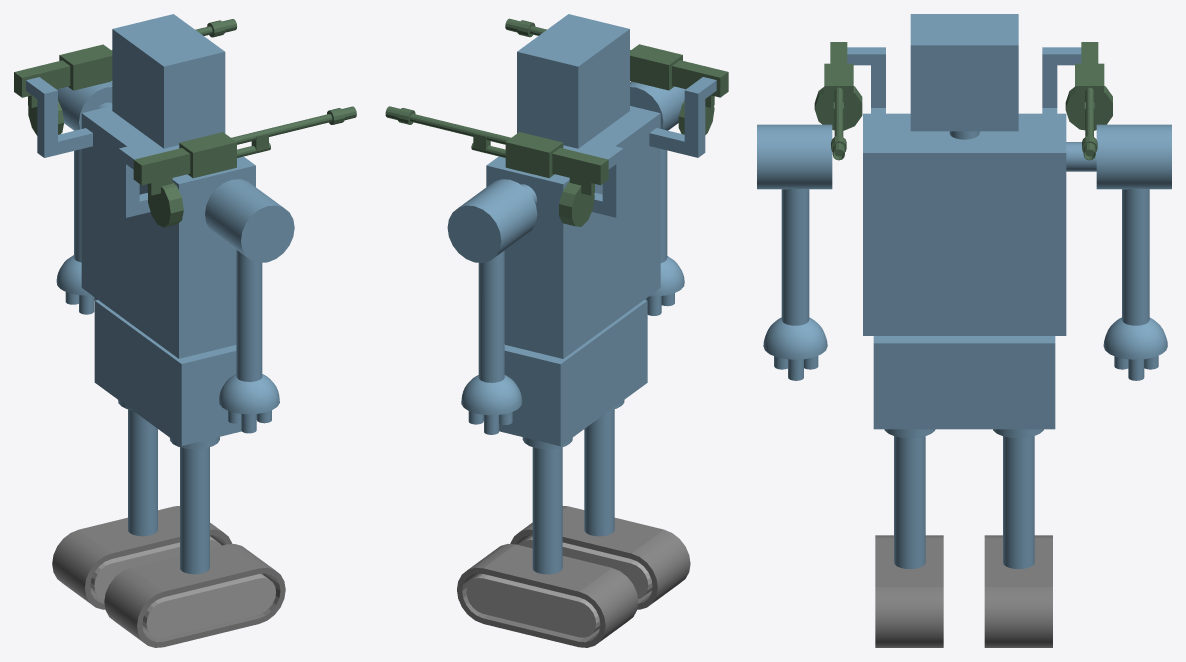
File: Robot (Machine gun).fbx
3 renders of one model, left to right at view 1: azimuth 30°, elevation 25°; view 2: azimuth 150°, elevation 25°; view 3: azimuth 270°, elevation 25°, orthographic. The views are drawn at different scales.
Parts seen in each view (by area): view 1: Body_and_Legs, Wheels, Machine_guns, Head___Head_Joint, Right_Shoulder_Cylinder, Right_arm, Right_Hand, Left_Shoulder_Cylinder, Left_Hand, Left_Arm; view 2: Body_and_Legs, Wheels, Machine_guns, Head___Head_Joint, Left_Shoulder_Cylinder, Left_Arm, Left_Hand, Right_Shoulder_Cylinder, Right_Hand, Right_arm; view 3: Body_and_Legs, Wheels, Head___Head_Joint, Machine_guns, Left_Shoulder_Cylinder, Right_Shoulder_Cylinder, Right_arm, Left_Arm, Left_Hand, Right_Hand, Left_Arm_Joint.
Boxes of the visible parts, bbox=[...] form: Body_and_Legs: bbox=[81, 106, 255, 574]; Wheels: bbox=[52, 506, 285, 647]; Machine_guns: bbox=[14, 19, 356, 227]; Head___Head_Joint: bbox=[112, 14, 225, 148]; Right_Shoulder_Cylinder: bbox=[205, 179, 294, 262]; Right_arm: bbox=[236, 249, 262, 381]; Right_Hand: bbox=[219, 374, 279, 433]; Left_Shoulder_Cylinder: bbox=[57, 81, 112, 130]; Left_Hand: bbox=[56, 255, 97, 314]; Left_Arm: bbox=[74, 149, 81, 262]; Body_and_Legs: bbox=[486, 106, 660, 574]; Wheels: bbox=[457, 506, 690, 647]; Machine_guns: bbox=[385, 18, 728, 226]; Head___Head_Joint: bbox=[517, 14, 629, 148]; Left_Shoulder_Cylinder: bbox=[447, 179, 537, 262]; Left_Arm: bbox=[478, 250, 504, 382]; Left_Hand: bbox=[461, 375, 522, 434]; Right_Shoulder_Cylinder: bbox=[630, 81, 685, 130]; Right_Hand: bbox=[644, 256, 684, 315]; Right_arm: bbox=[660, 149, 667, 262]; Body_and_Legs: bbox=[863, 113, 1066, 569]; Wheels: bbox=[875, 535, 1052, 647]; Head___Head_Joint: bbox=[910, 14, 1018, 139]; Machine_guns: bbox=[814, 42, 1112, 160]; Left_Shoulder_Cylinder: bbox=[1096, 124, 1171, 189]; Right_Shoulder_Cylinder: bbox=[757, 124, 832, 189]; Right_arm: bbox=[781, 189, 809, 325]; Left_Arm: bbox=[1122, 189, 1149, 325]; Left_Hand: bbox=[1103, 317, 1167, 380]; Right_Hand: bbox=[763, 317, 827, 380]; Left_Arm_Joint: bbox=[1066, 142, 1096, 171].
Size of the model in its own units: 5.04 by 12.57 by 8.
